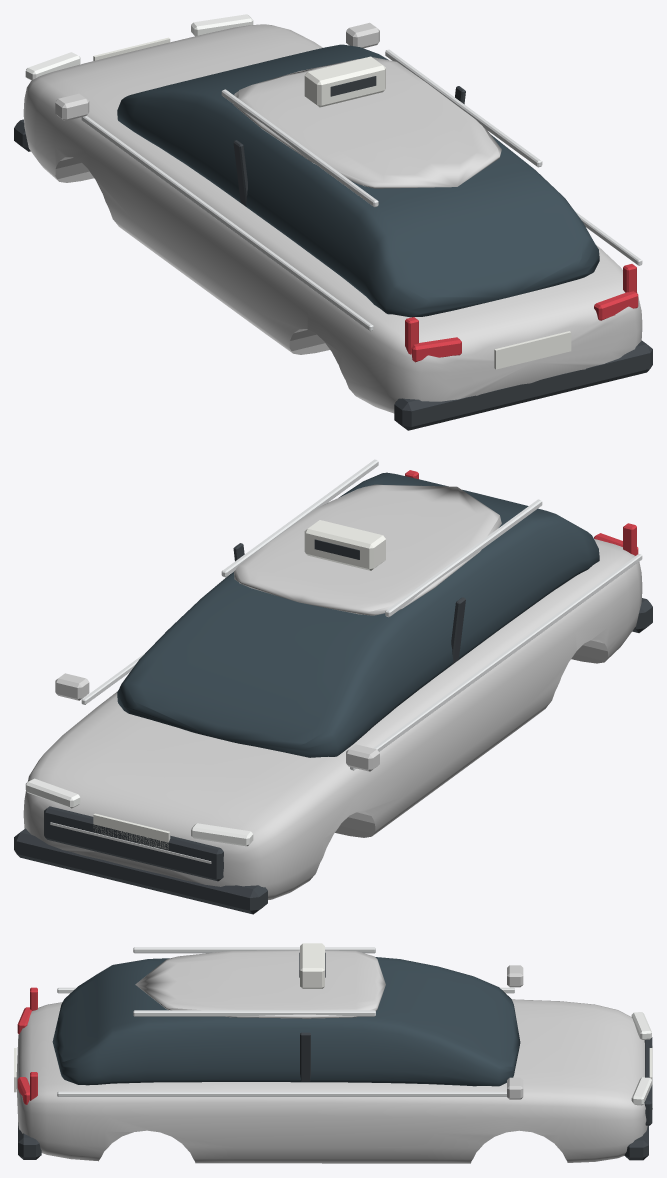
The model's file is taxi.glb.
3 views of the same model, one above another, from view 1: azimuth 30°, elevation 25°; view 2: azimuth 150°, elevation 25°; view 3: azimuth 270°, elevation 25° (orthographic). The views are drawn at different scales.
Visible parts, largest first — view 1: paint_body, glass_house, roof, bumper_r, plate_sign, chrome_beltline, plate.001, chrome_rail, chrome_rail.001, tail_lamp, head_lamp.001, tail_lamp.001 (+4 smaller); view 2: paint_body, glass_house, roof, black_grille, bumper_f, plate_sign, chrome_beltline, chrome_rail, chrome_rail.001, plate, head_lamp, head_lamp.001 (+2 smaller); view 3: paint_body, glass_house, roof, chrome_beltline.001, chrome_rail.001, chrome_rail, plate_sign, black_bpillar.001, bumper_r, bumper_f, black_grille, head_lamp.001 (+3 smaller).
Part boxes in pixels (left/top/right/bottom): paint_body: left=23, top=24, right=642, bottom=413; glass_house: left=117, top=44, right=599, bottom=317; roof: left=233, top=57, right=501, bottom=188; bumper_r: left=394, top=340, right=652, bottom=430; plate_sign: left=304, top=56, right=385, bottom=107; chrome_beltline: left=81, top=116, right=373, bottom=331; plate.001: left=494, top=331, right=571, bottom=369; chrome_rail: left=221, top=89, right=378, bottom=207; chrome_rail.001: left=385, top=49, right=542, bottom=167; tail_lamp: left=411, top=337, right=461, bottom=362; head_lamp.001: left=191, top=14, right=253, bottom=36; tail_lamp.001: left=594, top=291, right=638, bottom=320; paint_body: left=23, top=539, right=642, bottom=899; glass_house: left=117, top=472, right=599, bottom=757; roof: left=234, top=484, right=501, bottom=615; black_grille: left=44, top=806, right=223, bottom=881; bumper_f: left=14, top=828, right=267, bottom=914; plate_sign: left=304, top=520, right=385, bottom=570; chrome_beltline: left=350, top=554, right=642, bottom=770; chrome_rail: left=385, top=499, right=542, bottom=617; chrome_rail.001: left=221, top=459, right=378, bottom=577; plate: left=93, top=813, right=170, bottom=850; head_lamp: left=191, top=823, right=253, bottom=846; head_lamp.001: left=25, top=778, right=80, bottom=808; paint_body: left=16, top=999, right=647, bottom=1163; glass_house: left=52, top=957, right=520, bottom=1086; roof: left=135, top=950, right=385, bottom=1018; chrome_beltline.001: left=57, top=1091, right=506, bottom=1096; chrome_rail.001: left=133, top=1010, right=375, bottom=1016; chrome_rail: left=133, top=947, right=375, bottom=953; plate_sign: left=300, top=943, right=324, bottom=988; black_bpillar.001: left=300, top=1032, right=310, bottom=1081; bumper_r: left=18, top=1122, right=41, bottom=1159; bumper_f: left=624, top=1125, right=648, bottom=1160; black_grille: left=644, top=1037, right=652, bottom=1125; head_lamp.001: left=631, top=1077, right=651, bottom=1105.
Size of the model in its own units: 2.11 by 1.31 by 4.63.
